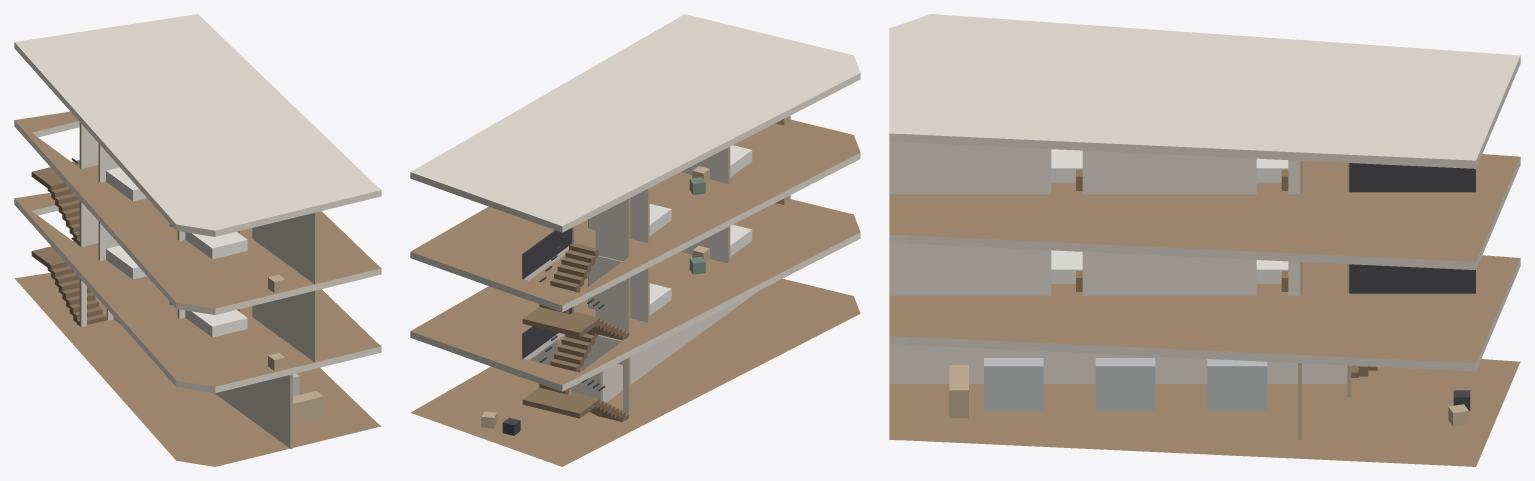
The model's file is interior.glb.
3 views of the same model, side by side, from view 1: azimuth 30°, elevation 25°; view 2: azimuth 150°, elevation 25°; view 3: azimuth 270°, elevation 25° (orthographic). The views are drawn at different scales.
Parts seen in each view (by area): view 1: slabs, partitions, stair, coarse-s2, coarse-s1, coarse-s0; view 2: slabs, partitions, stair, coarse-s1, coarse-s2, coarse-s0; view 3: slabs, partitions, coarse-s0, stair, coarse-s2, coarse-s1.
Boxes of the visible parts, box(x1,y1,x2,y2) form: slabs: box(14, 14, 381, 466); partitions: box(79, 122, 317, 448); stair: box(31, 158, 105, 325); coarse-s2: box(106, 167, 285, 292); coarse-s1: box(106, 245, 285, 370); coarse-s0: box(293, 373, 323, 425); slabs: box(410, 14, 860, 466); partitions: box(530, 147, 757, 417); stair: box(522, 228, 629, 421); coarse-s1: box(649, 195, 790, 315); coarse-s2: box(649, 115, 790, 235); coarse-s0: box(481, 411, 520, 435); slabs: box(889, 14, 1520, 466); partitions: box(889, 142, 1351, 439); coarse-s0: box(949, 358, 1470, 426); stair: box(1349, 163, 1475, 377); coarse-s2: box(1051, 149, 1288, 190); coarse-s1: box(1051, 250, 1288, 291).
Size of the model in its own units: 9.94 by 9.7 by 18.08.
